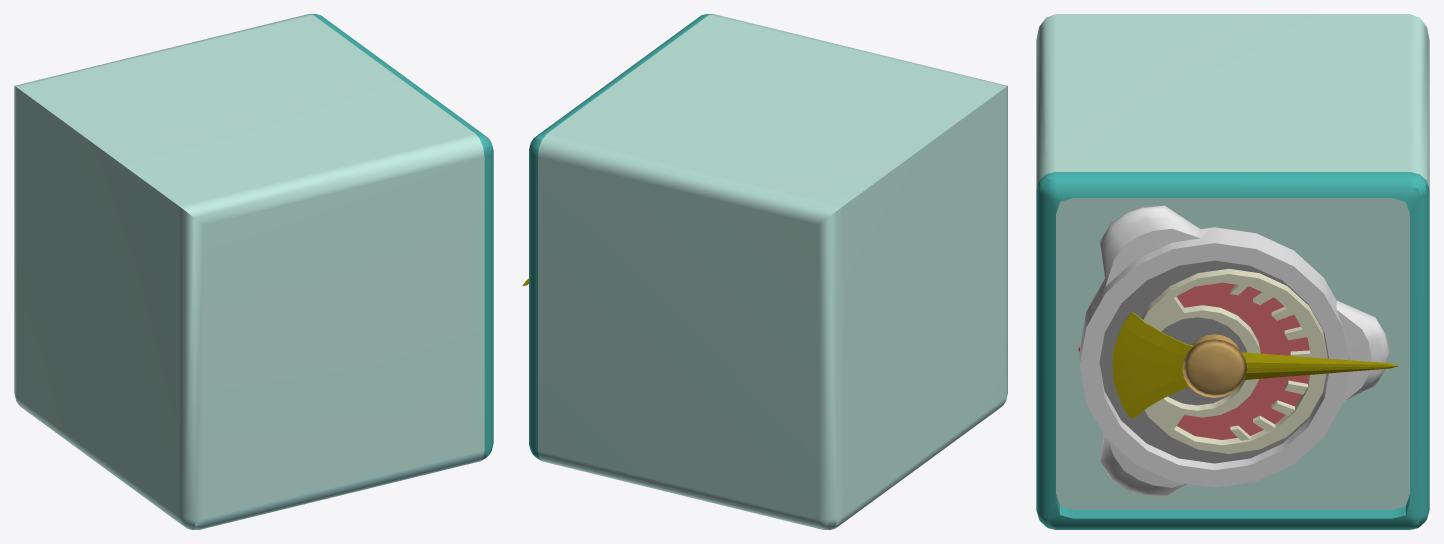
Rendered from blockarrow_kai 1.fbx.
The picture shows the model from 3 angles, left to right: view 1: azimuth 30°, elevation 25°; view 2: azimuth 150°, elevation 25°; view 3: azimuth 270°, elevation 25°; orthographic projection. The views are drawn at different scales.
Visible parts, largest first — view 1: pCube2; view 2: pCube2; view 3: pCube2, pCylinder1.
Boxes of the visible parts, x1=… form: pCube2: x1=14, y1=14, x2=493, y2=529; pCube2: x1=529, y1=14, x2=1007, y2=529; pCube2: x1=1036, y1=14, x2=1429, y2=529; pCylinder1: x1=1079, y1=205, x2=1398, y2=497.
Size of the model in its own units: 108 by 100 by 100.
